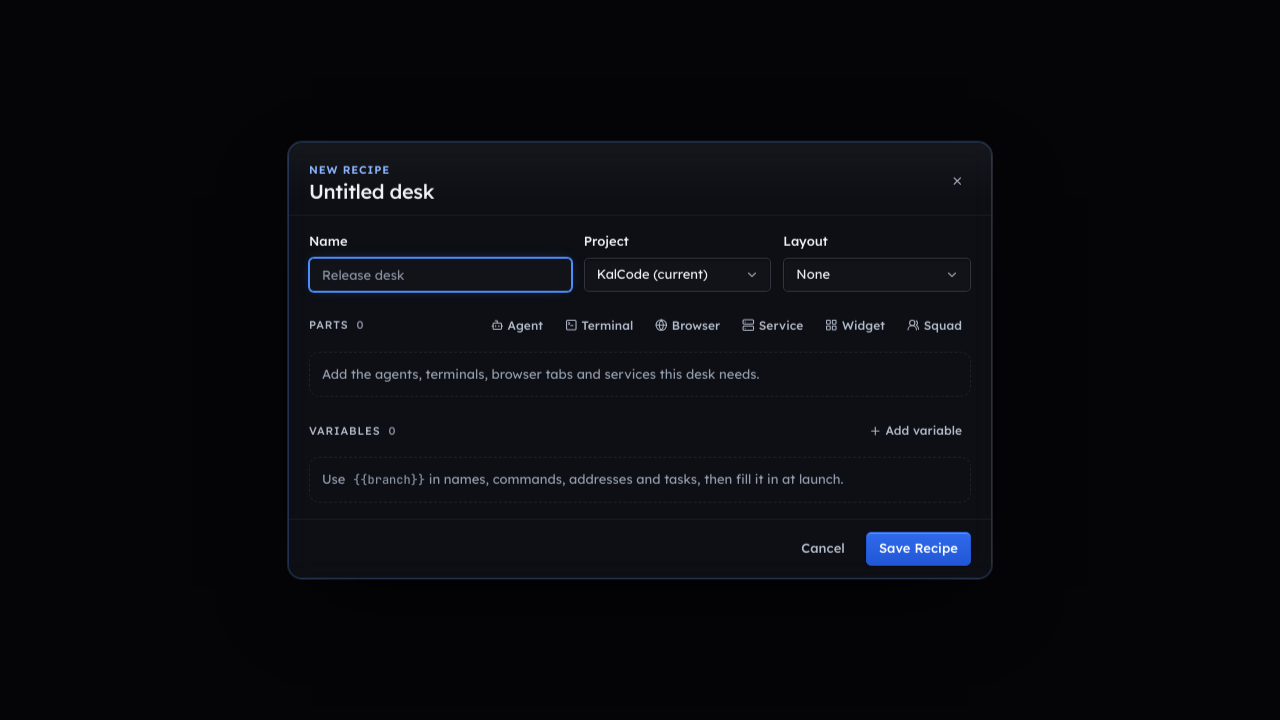
Test: RecipeEditor › reorders and removes parts
Click the button with aria-label "Add Terminal" at point(599, 325), box [556,311,642,339]
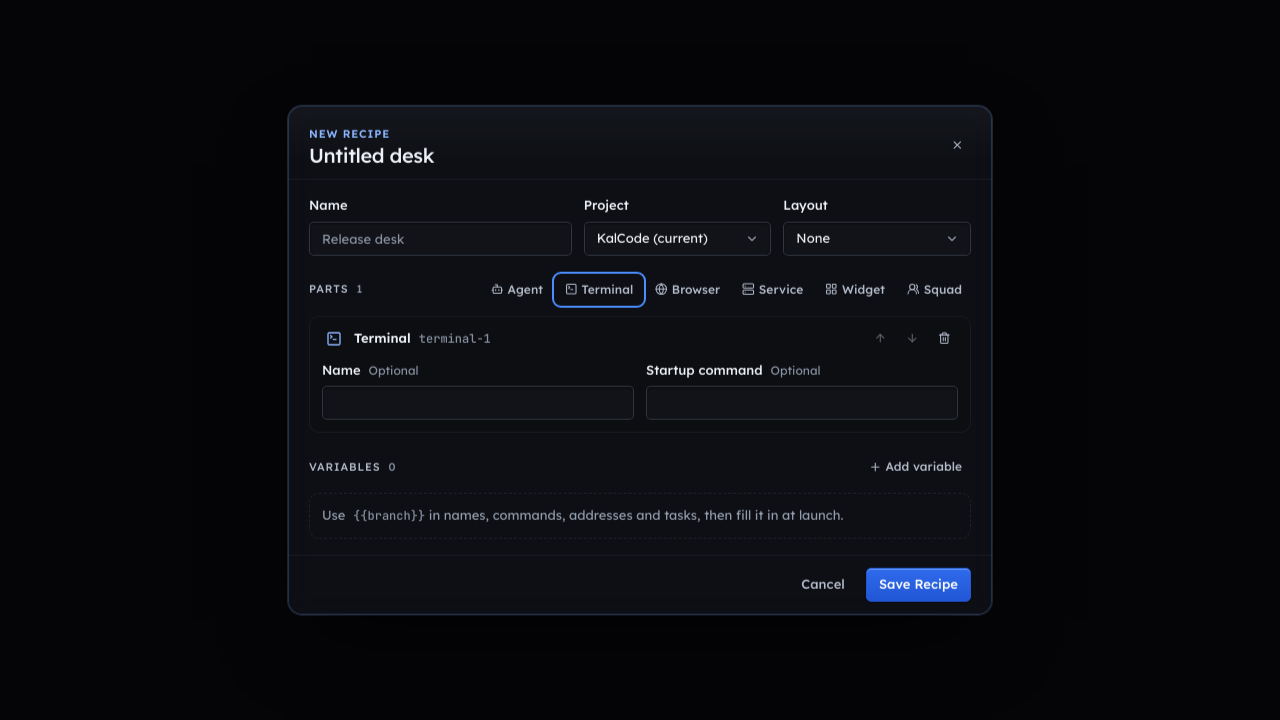
Click the button with aria-label "Add Browser" at point(688, 289), box [646,275,729,303]
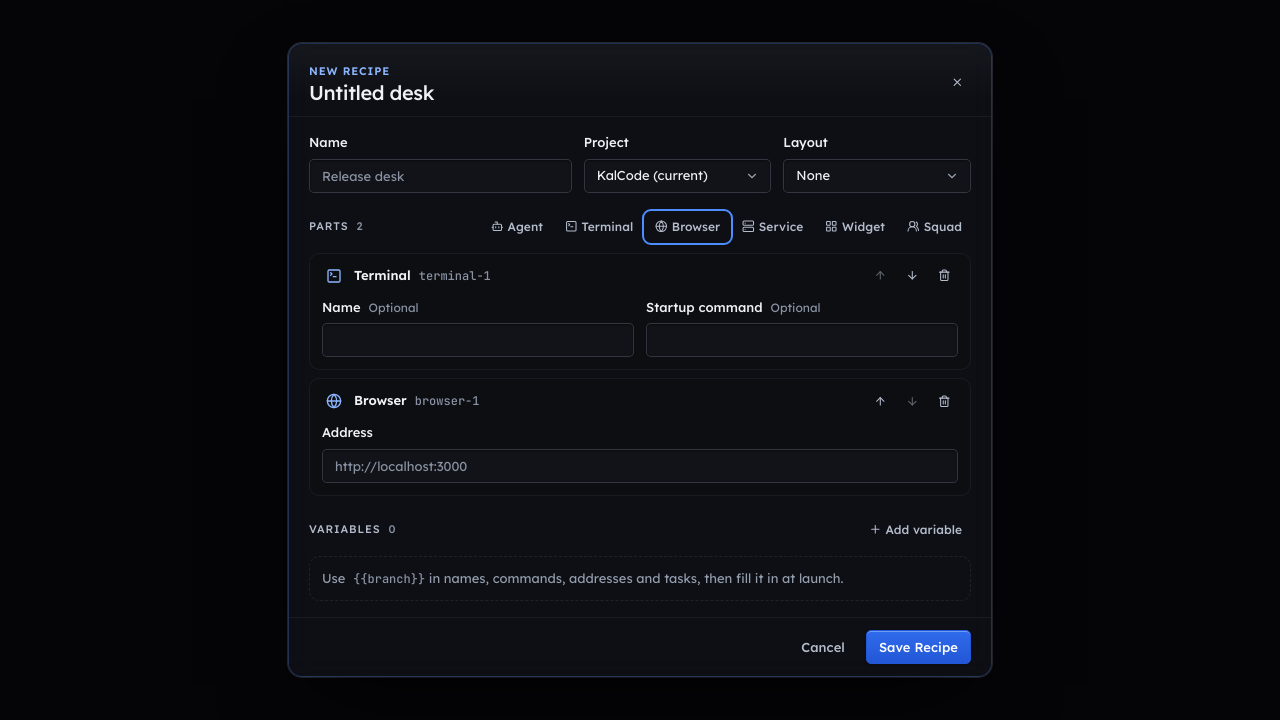
Click the button named "Move browser-1 up" at point(880, 401), box [866,387,894,415]
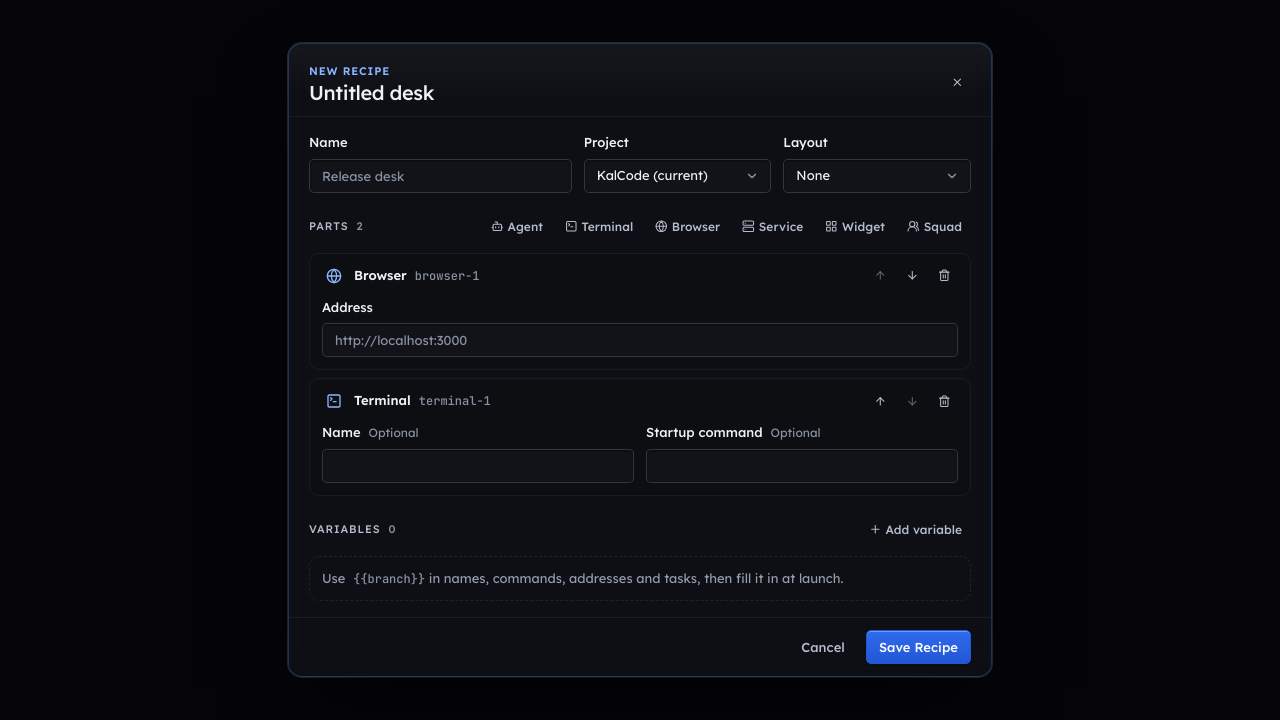
Click the button named "Remove browser-1" at point(944, 276), box [930,262,958,290]
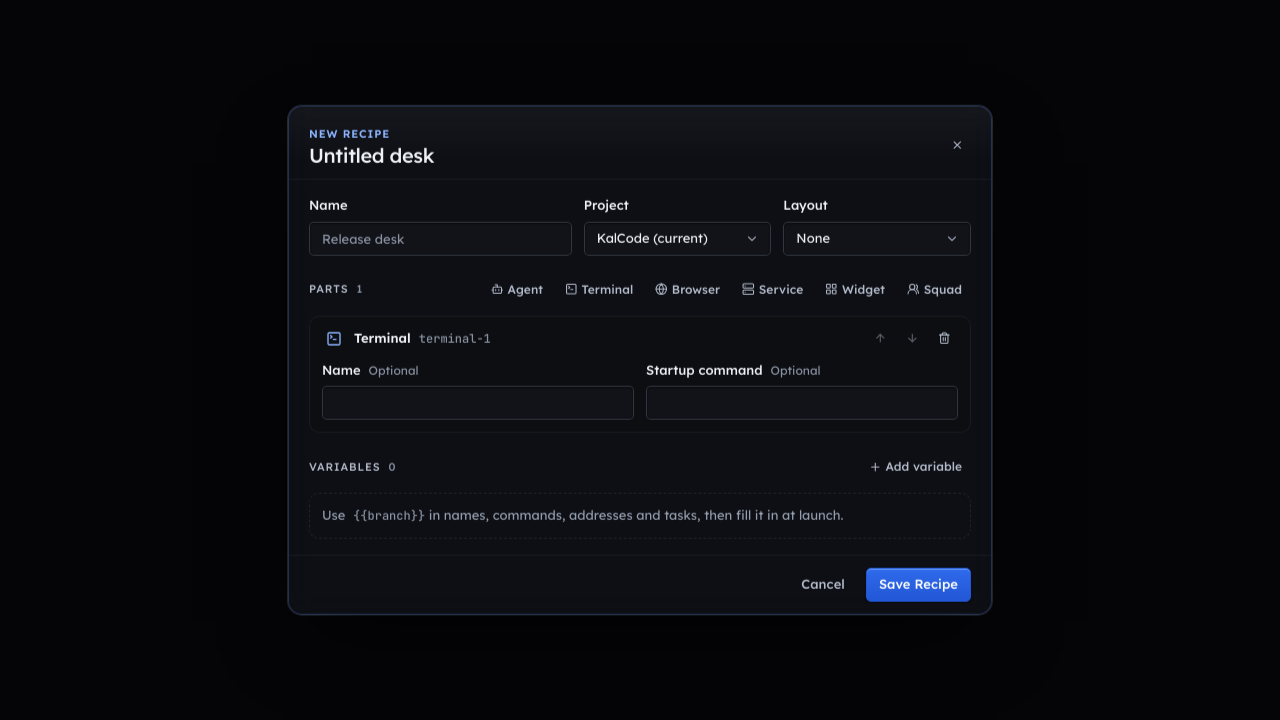
Result: the text "browser-1" is gone
